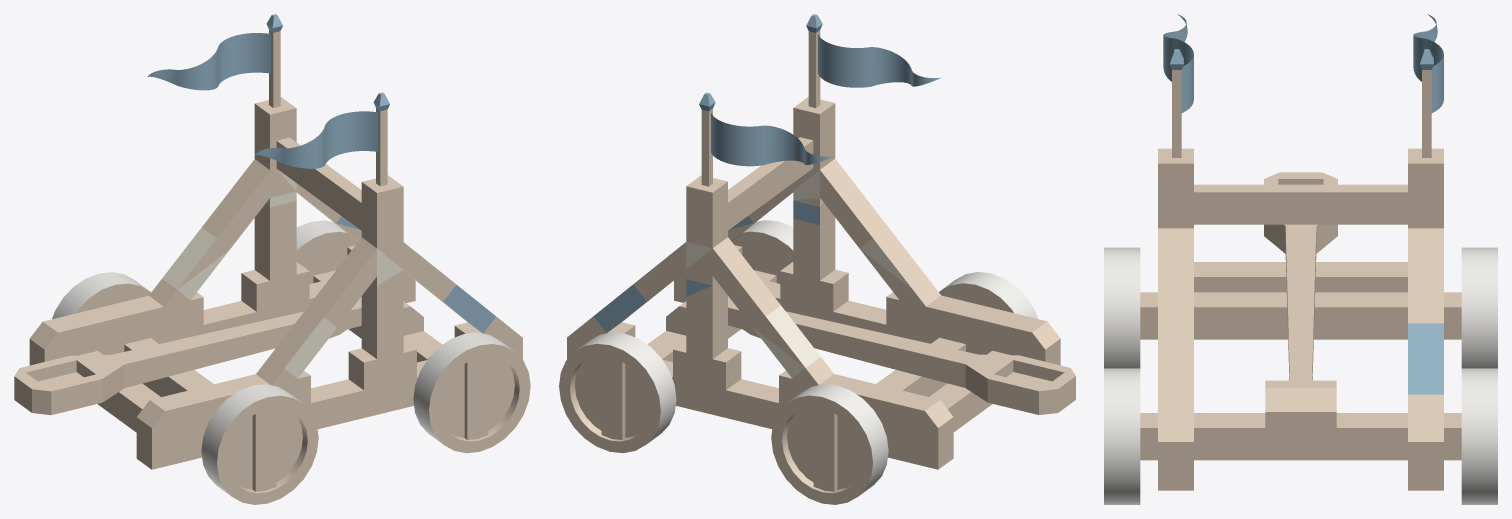
The model's file is siegeCatapult.glb.
The picture shows the model from 3 angles, left to right: view 1: azimuth 30°, elevation 25°; view 2: azimuth 150°, elevation 25°; view 3: azimuth 270°, elevation 25°; orthographic projection. The views are drawn at different scales.
Parts seen in each view (by area): view 1: siegeCatapult; view 2: siegeCatapult; view 3: siegeCatapult.
Part boxes in pixels (left/top/right/bottom): siegeCatapult: left=14, top=14, right=530, bottom=504; siegeCatapult: left=559, top=14, right=1075, bottom=504; siegeCatapult: left=1104, top=14, right=1497, bottom=504.
Size of the model in its own units: 17.35 by 13.3 by 11.57.
